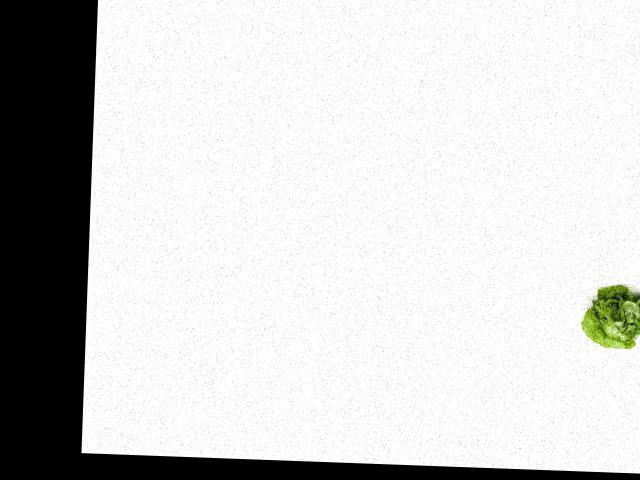lettuce: (579, 279, 640, 356)
